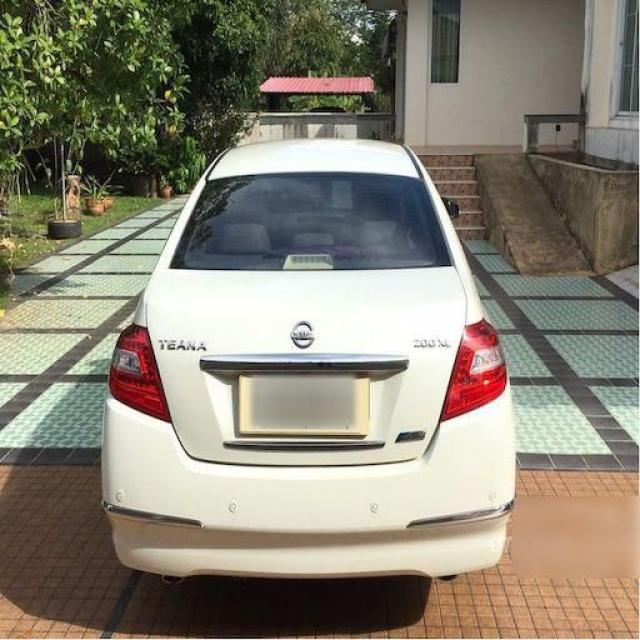back_bumper: (101, 378, 520, 579)
back_glass: (168, 171, 456, 270)
back_left_light: (106, 324, 171, 422)
back_right_light: (440, 318, 509, 421)
tailgate: (146, 266, 466, 467)
